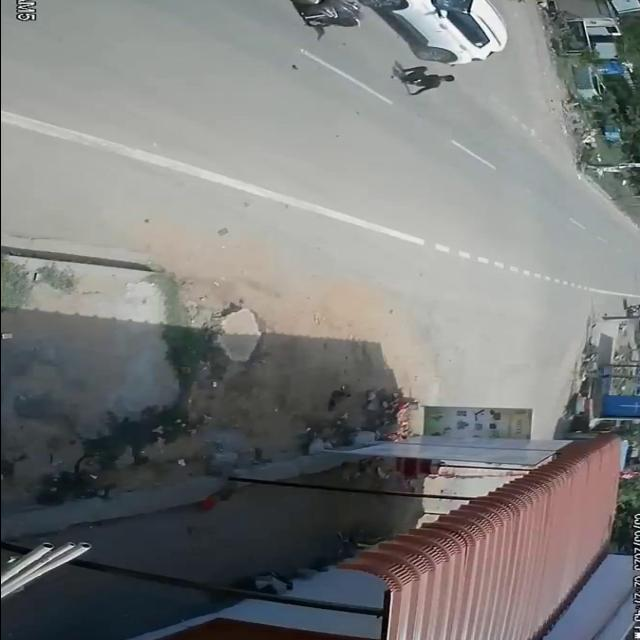accident: (276, 0, 515, 100)
